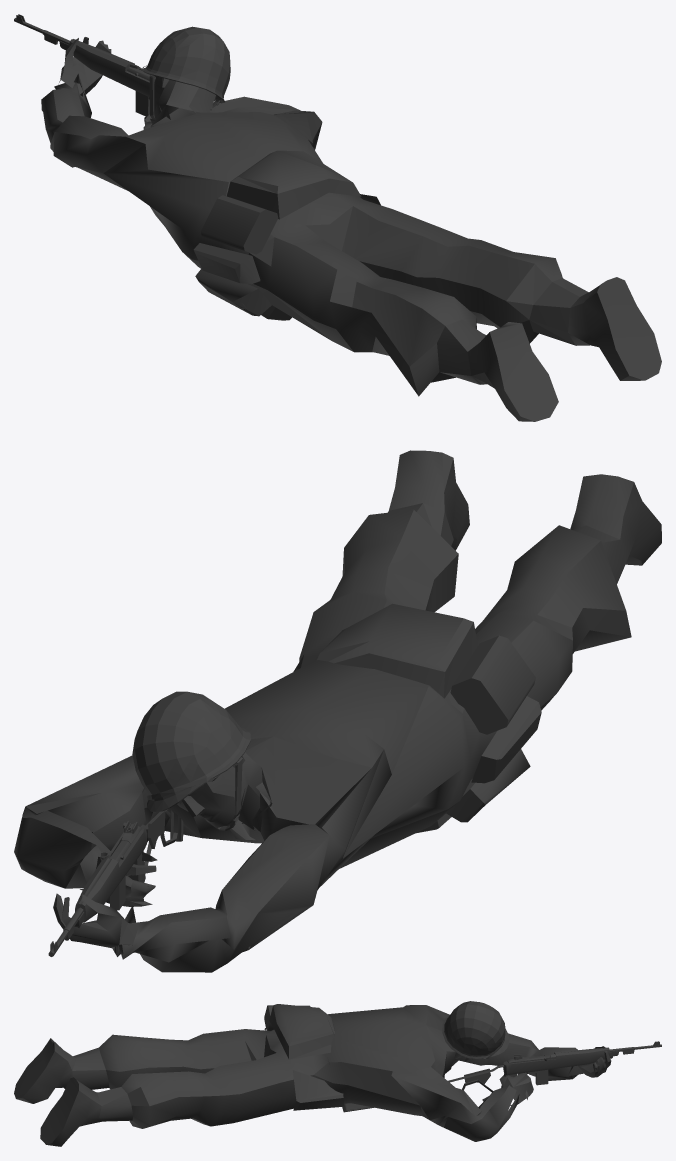
File: us_carabina_prono.glb
3 views of the same model, one above another, from view 1: azimuth 30°, elevation 25°; view 2: azimuth 150°, elevation 25°; view 3: azimuth 270°, elevation 25° (orthographic). The views are drawn at different scales.
Visible parts, largest first — view 1: Object.004_Object.017_2; view 2: Object.004_Object.017_2; view 3: Object.004_Object.017_2.
Part boxes in pixels (x1,y1,x2,y2): Object.004_Object.017_2: (14, 14, 661, 421); Object.004_Object.017_2: (14, 450, 661, 972); Object.004_Object.017_2: (14, 1001, 661, 1146).
Bounding box in the file's own units: 0.2226 × 0.1343 × 0.691.
Materials: 1 (1 with a texture image).
